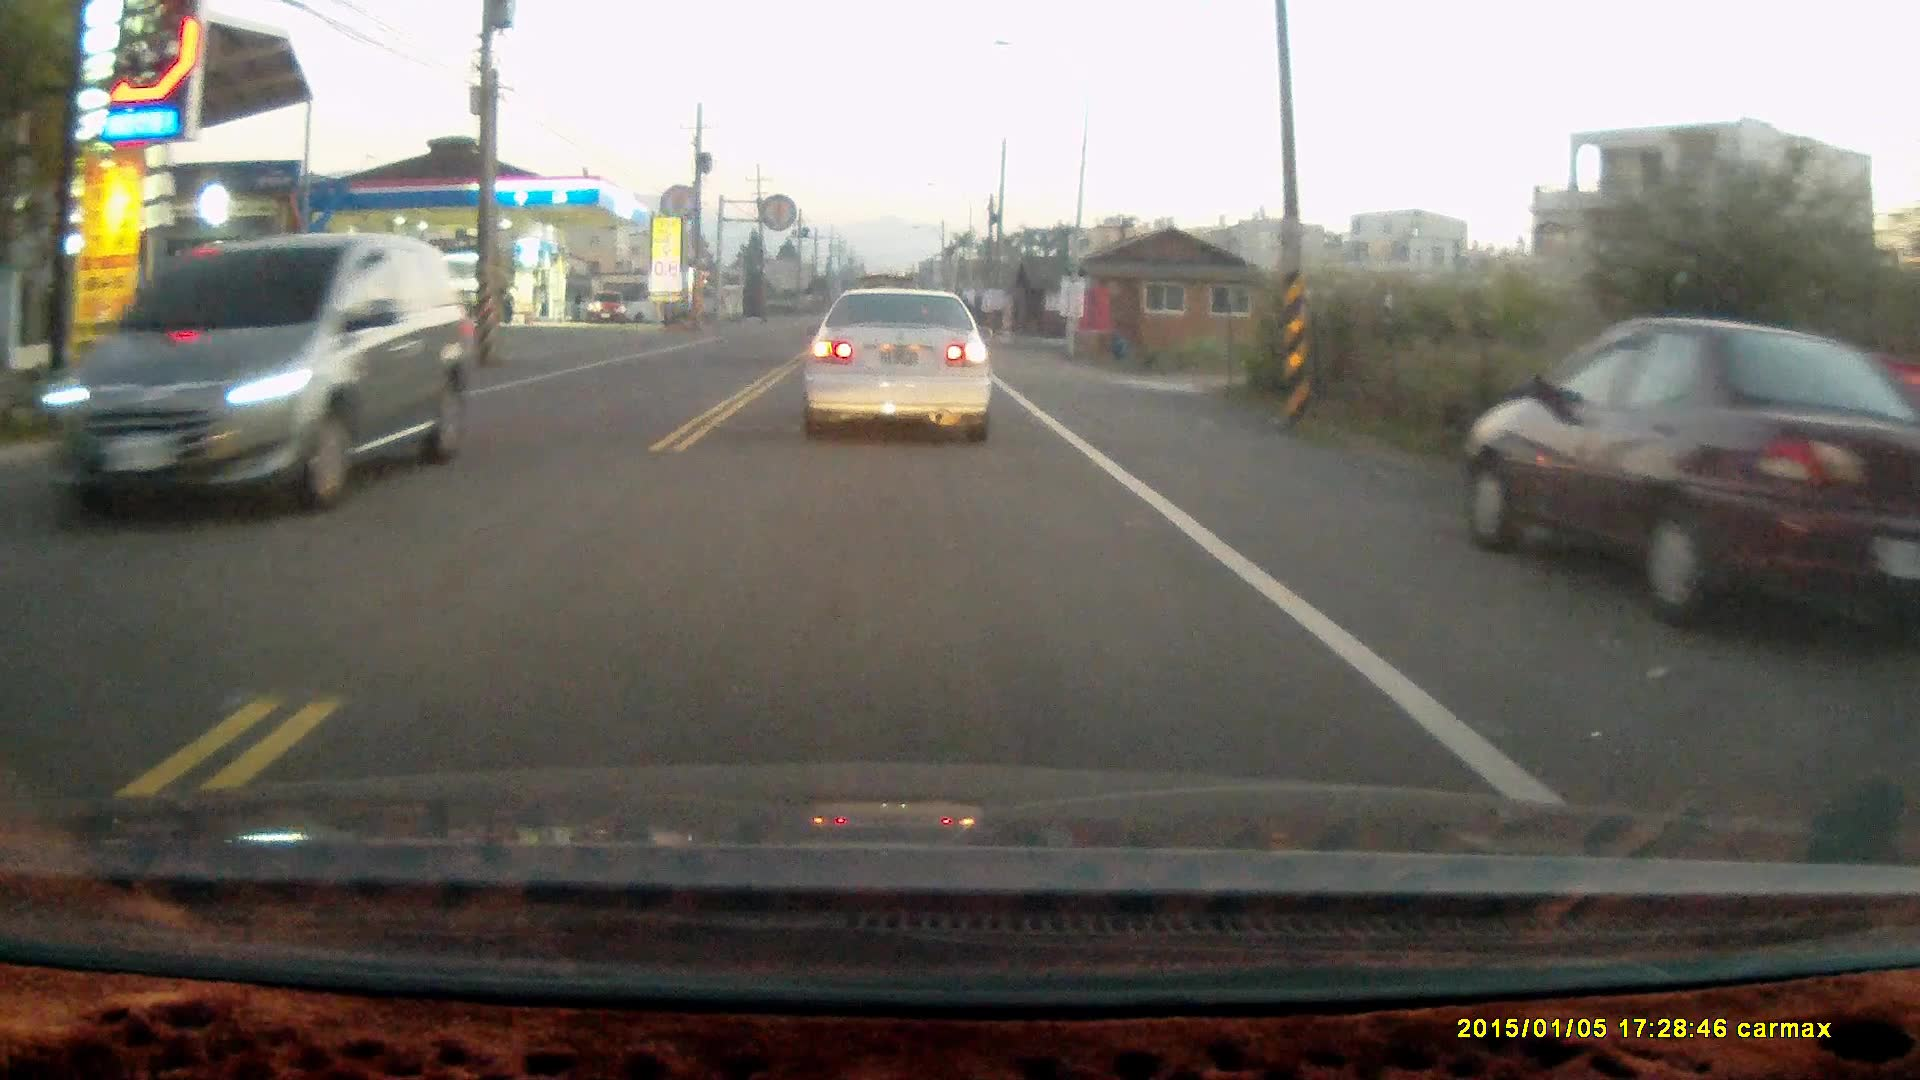vehicle: (1461, 313, 1913, 680), (13, 236, 471, 506), (796, 282, 996, 442), (588, 290, 628, 326)
